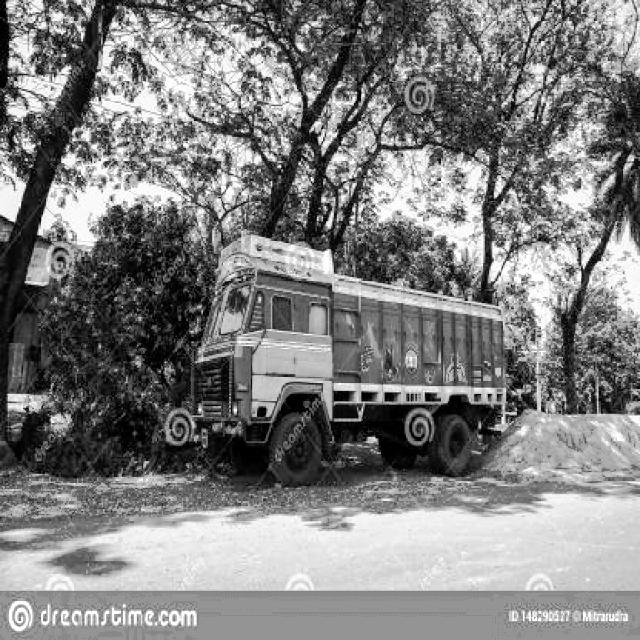HCV: (212, 250, 516, 466)
